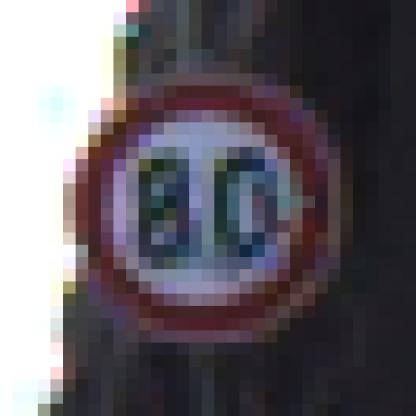Speed Limit 80: (80, 79, 336, 338)
